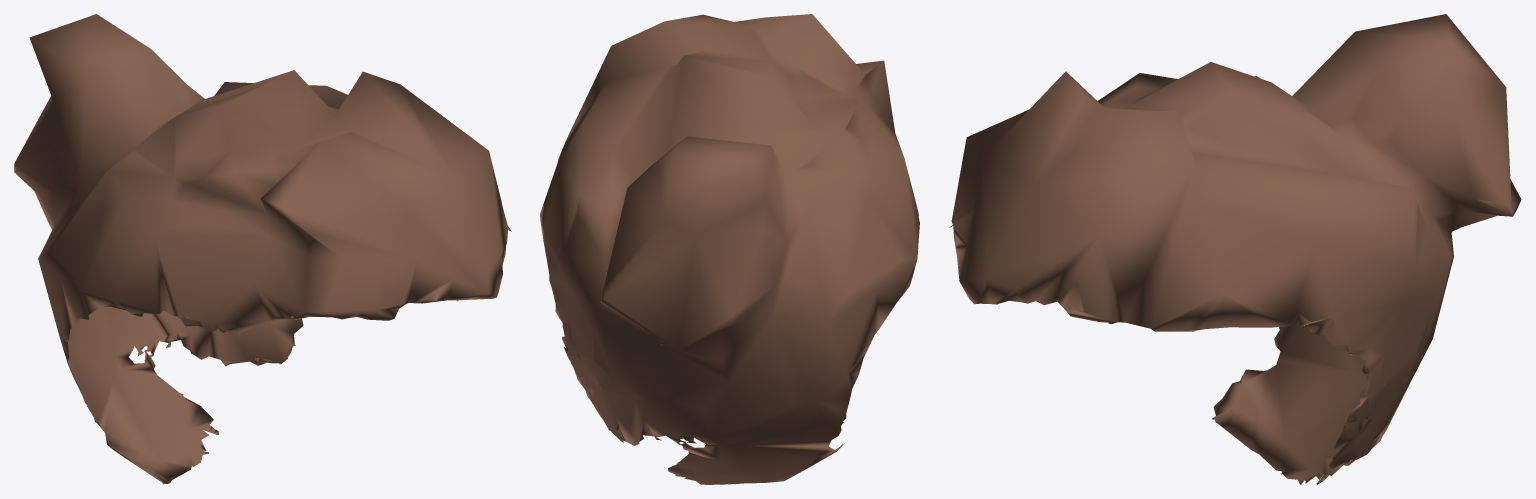
The model's file is Hair_short_LOD0.glb.
The picture shows the model from 3 angles, left to right: view 1: azimuth 30°, elevation 25°; view 2: azimuth 150°, elevation 25°; view 3: azimuth 270°, elevation 25°; orthographic projection. The views are drawn at different scales.
Visible parts, largest first — view 1: Hair_short_LOD0; view 2: Hair_short_LOD0; view 3: Hair_short_LOD0.
Boxes of the visible parts, x1,y1,x2,y2 form: Hair_short_LOD0: (14, 14, 511, 484); Hair_short_LOD0: (540, 14, 919, 484); Hair_short_LOD0: (949, 14, 1521, 484).
Bounding box in the file's own units: 0.2611 × 0.265 × 0.3243.
